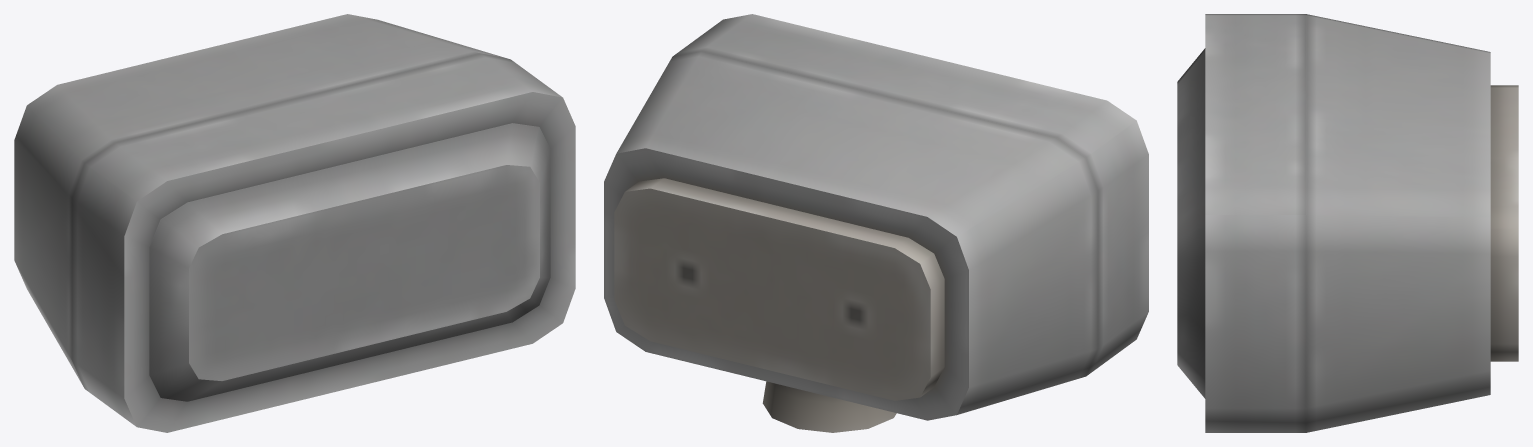
The model's file is Tantares_MOE_4.obj.
The picture shows the model from 3 angles, left to right: view 1: azimuth 30°, elevation 25°; view 2: azimuth 150°, elevation 25°; view 3: azimuth 270°, elevation 25°; orthographic projection. The views are drawn at different scales.
Visible parts, largest first — view 1: Tantares_MOE_4; view 2: Tantares_MOE_4; view 3: Tantares_MOE_4.
Boxes of the visible parts, bbox=[...] form: Tantares_MOE_4: bbox=[14, 14, 575, 432]; Tantares_MOE_4: bbox=[604, 14, 1148, 432]; Tantares_MOE_4: bbox=[1177, 14, 1518, 432].
Size of the model in its own units: 0.225 by 0.135 by 0.1525.
